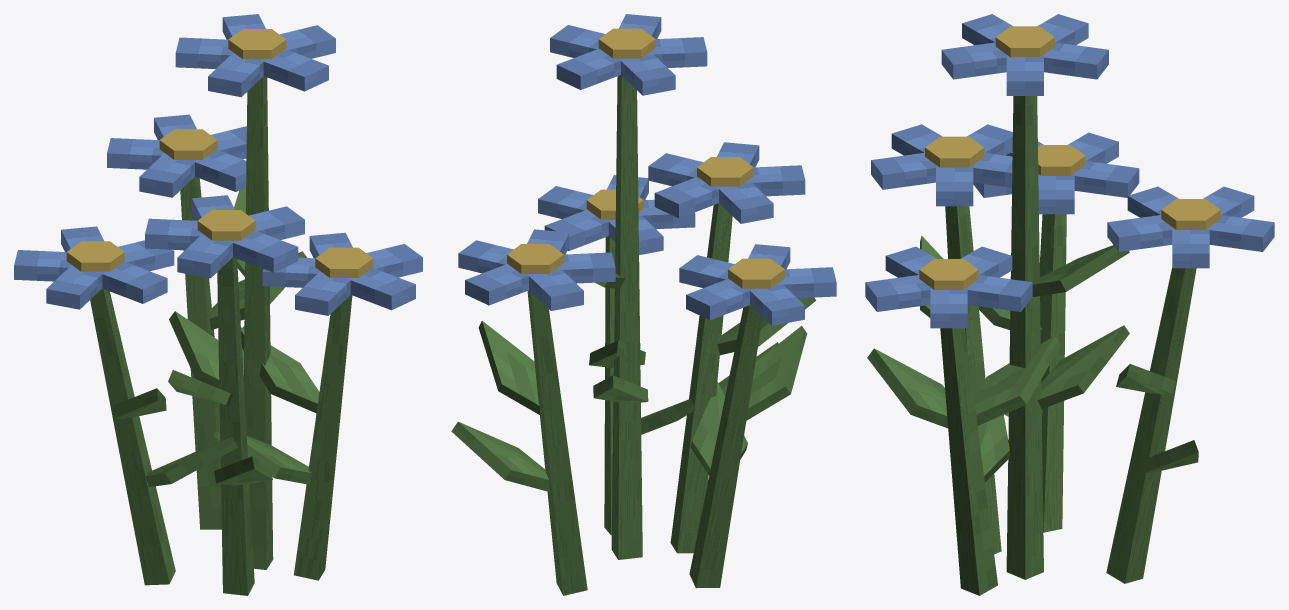
Rendered from f_chicory.glb.
3 views of the same model, side by side, from view 1: azimuth 30°, elevation 25°; view 2: azimuth 150°, elevation 25°; view 3: azimuth 270°, elevation 25° (orthographic). The views are drawn at different scales.
Visible parts, largest first — view 1: block_petal (×25), block_pointed-leaf (×8), block_stem-0, block_stem-1, block_stem-4, block_stem-3, block_stem-2, block_flower-centre-3, block_flower-centre-0, block_flower-centre-1, block_flower-centre-4, block_flower-centre-2; view 2: block_petal (×24), block_pointed-leaf (×8), block_stem-0, block_stem-4, block_stem-2, block_stem-1, block_stem-3, block_flower-centre-0, block_flower-centre-4, block_flower-centre-1, block_flower-centre-2, block_flower-centre-3; view 3: block_petal (×23), block_pointed-leaf (×7), block_stem-0, block_stem-2, block_stem-3, block_stem-4, block_stem-1, block_flower-centre-0, block_flower-centre-1, block_flower-centre-2, block_flower-centre-3, block_flower-centre-4.
Boxes of the visible parts, x1,y1,x2,y2 form: block_petal (×25): (14,14,422,315); block_pointed-leaf (×8): (113,251,319,486); block_stem-0: (243,76,273,569); block_stem-1: (217,257,254,595); block_stem-4: (90,288,175,585); block_stem-3: (294,295,352,580); block_stem-2: (180,176,221,529); block_flower-centre-3: (315,247,373,277); block_flower-centre-0: (228,29,286,59); block_flower-centre-1: (197,210,255,240); block_flower-centre-4: (66,241,124,271); block_flower-centre-2: (159,129,217,159); block_petal (×24): (458,14,836,325); block_pointed-leaf (×8): (451,297,815,491); block_stem-0: (611,75,642,559); block_stem-4: (689,305,762,588); block_stem-2: (527,290,587,595); block_stem-1: (670,203,732,553); block_stem-3: (604,236,615,535); block_flower-centre-0: (598,28,655,58); block_flower-centre-4: (728,258,784,288); block_flower-centre-1: (697,157,753,186); block_flower-centre-2: (507,244,563,273); block_flower-centre-3: (586,189,643,219); block_petal (×23): (865,14,1274,328); block_pointed-leaf (×7): (867,245,1198,482); block_stem-0: (1006,96,1043,579); block_stem-2: (1106,267,1196,583); block_stem-3: (940,328,997,595); block_stem-4: (1039,214,1066,532); block_stem-1: (945,206,1001,554); block_flower-centre-0: (995,26,1054,57); block_flower-centre-1: (925,136,984,167); block_flower-centre-2: (1161,199,1220,229); block_flower-centre-3: (919,259,978,289); block_flower-centre-4: (1038,145,1085,175).
Bounding box in the file's own units: 0.3589 × 0.5458 × 0.3761.
Materials: 1 (1 with a texture image).
